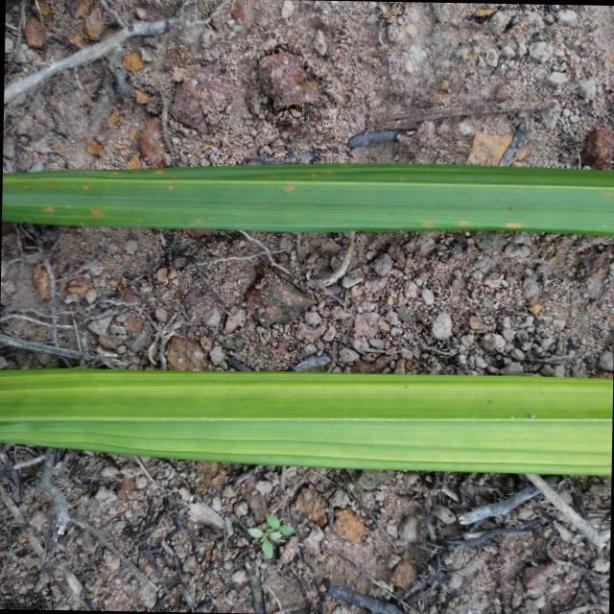nitrogen: (5, 368, 614, 473), (9, 156, 614, 233)
